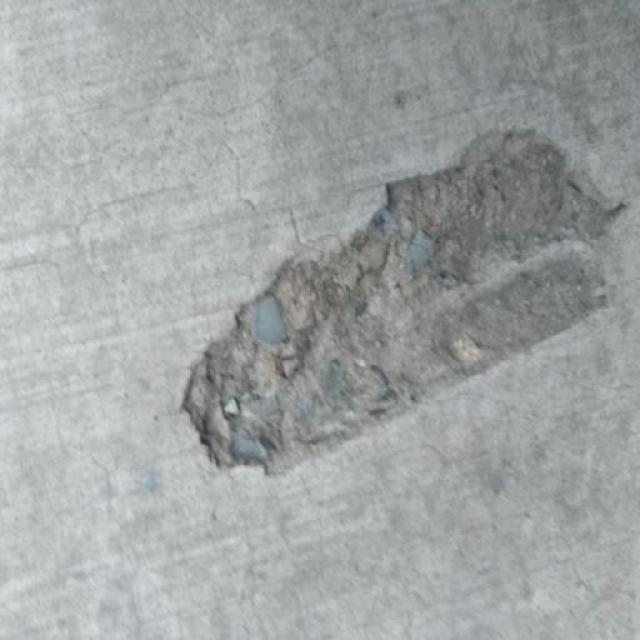D10: (181, 128, 615, 478)
